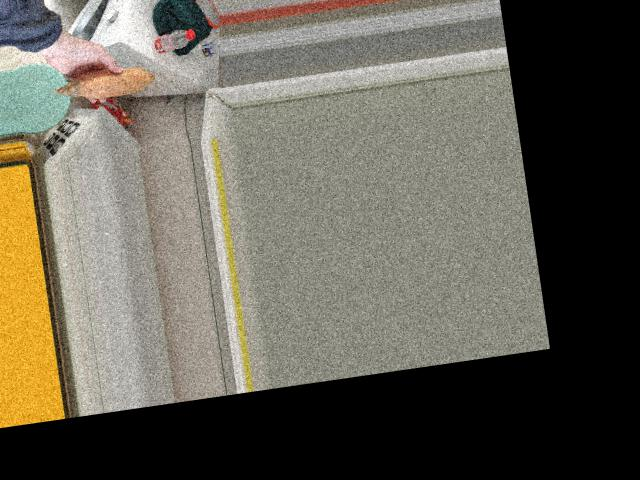sweet_potato: (66, 66, 142, 98)
